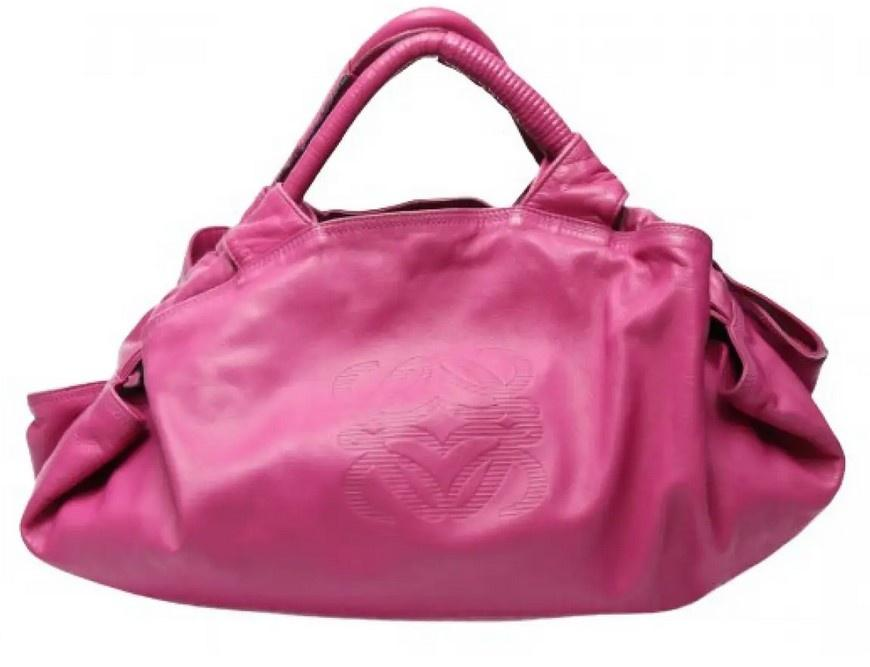LOEWE: (319, 343, 562, 539)
